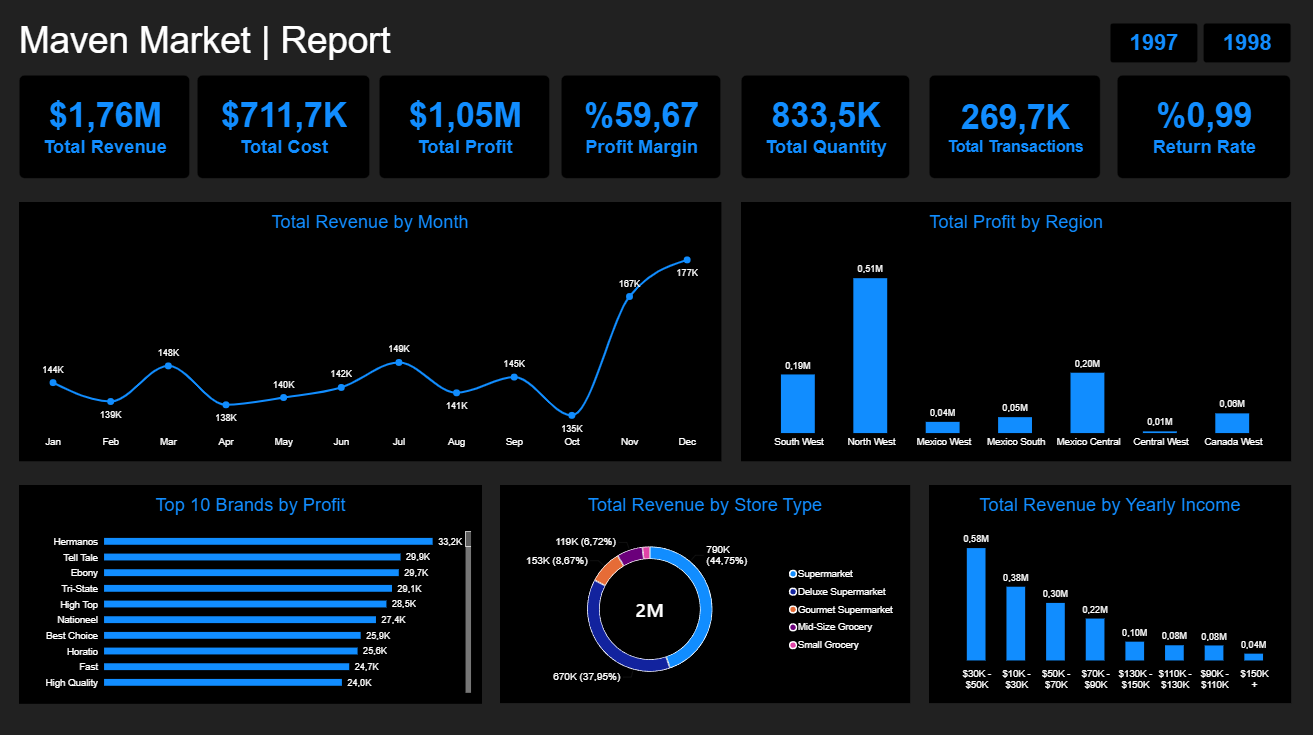

The dashboard page shown, as its layout file describes it:
{"tool":"powerbi","page":{"name":"Page 1","canvas":[1920,1080],"ordinal":0},"visuals":[{"type":"cardVisual","fields":{"Data":["MM_transactions.Total Revenue"]},"box":[30.6,112.3,249.3,151.6],"z":0},{"type":"cardVisual","fields":{"Data":["MM_transactions.Total Transactions"]},"box":[1357.3,112.3,250.8,151.6],"z":1000},{"type":"cardVisual","fields":{"Data":["MM_transactions.Total Quantity"]},"box":[1083.2,112.3,246.4,151.6],"z":2000},{"type":"cardVisual","fields":{"Data":["MM_transactions.Total Cost"]},"box":[290.1,112.3,252.2,151.6],"z":3000},{"type":"cardVisual","fields":{"Data":["MM_transactions.Total Profit"]},"box":[555.4,112.3,249.3,151.6],"z":4000},{"type":"cardVisual","fields":{"Data":["MM_transactions.Profit Margin"]},"box":[820.8,112.3,233.3,151.6],"z":5000},{"type":"cardVisual","fields":{"Data":["MM_transactions.Return Rate"]},"box":[1631.3,112.3,253.7,151.6],"z":6000},{"type":"lineChart","title":"Total Revenue by Month","fields":{"Category":["MavenMarket_Calendar.Month name"],"Y":["MM_transactions.Total Revenue"]},"box":[30.6,297.4,1023.7,377.6],"z":7000},{"type":"columnChart","title":"Total Profit by Region","fields":{"Category":["MavenMarket_Regions.sales_region"],"Y":["MM_transactions.Total Profit"]},"box":[1083.2,297.4,802.4,377.9],"z":8000},{"type":"advancedSlicerVisual","fields":{"Values":["MavenMarket_Calendar.date.Variation.Date Hierarchy.Year"]},"box":[1620.9,36.5,264.1,58.4],"z":9000},{"type":"barChart","title":"Top 10 Brands by Profit","fields":{"Category":["MavenMarket_Products.product_brand"],"Y":["MM_transactions.Total Profit"]},"box":[30.6,710,675,319.3],"z":10000},{"type":"donutChart","title":"Total Revenue by Store Type","fields":{"Category":["MavenMarket_Stores.store_type"],"Y":["MM_transactions.Total Revenue"]},"box":[731.8,710,597.7,317.8],"z":10001},{"type":"columnChart","title":"Total Revenue by Yearly Income","fields":{"Category":["MavenMarket_Customers.yearly_income"],"Y":["MM_transactions.Total Revenue"]},"box":[1357.3,710,527.7,317.8],"z":10002},{"type":"textbox","box":[30,30,571.5,70],"z":10003}]}

Visuals, with their boxes in screenshot pixels (x1, y1, x2, y2), scaled from the page's 1920x1080 canvas onto the 1313x735 screenshot:
cardVisual - MM_transactions.Total Revenue: Rect(21, 76, 191, 180)
cardVisual - MM_transactions.Total Transactions: Rect(928, 76, 1100, 180)
cardVisual - MM_transactions.Total Quantity: Rect(741, 76, 909, 180)
cardVisual - MM_transactions.Total Cost: Rect(198, 76, 371, 180)
cardVisual - MM_transactions.Total Profit: Rect(380, 76, 550, 180)
cardVisual - MM_transactions.Profit Margin: Rect(561, 76, 721, 180)
cardVisual - MM_transactions.Return Rate: Rect(1116, 76, 1289, 180)
"Total Revenue by Month" lineChart: Rect(21, 202, 721, 459)
"Total Profit by Region" columnChart: Rect(741, 202, 1289, 460)
advancedSlicerVisual - MavenMarket_Calendar.date.Variation.Date Hierarchy.Year: Rect(1108, 25, 1289, 65)
"Top 10 Brands by Profit" barChart: Rect(21, 483, 483, 700)
"Total Revenue by Store Type" donutChart: Rect(500, 483, 909, 699)
"Total Revenue by Yearly Income" columnChart: Rect(928, 483, 1289, 699)
textbox: Rect(21, 20, 411, 68)
